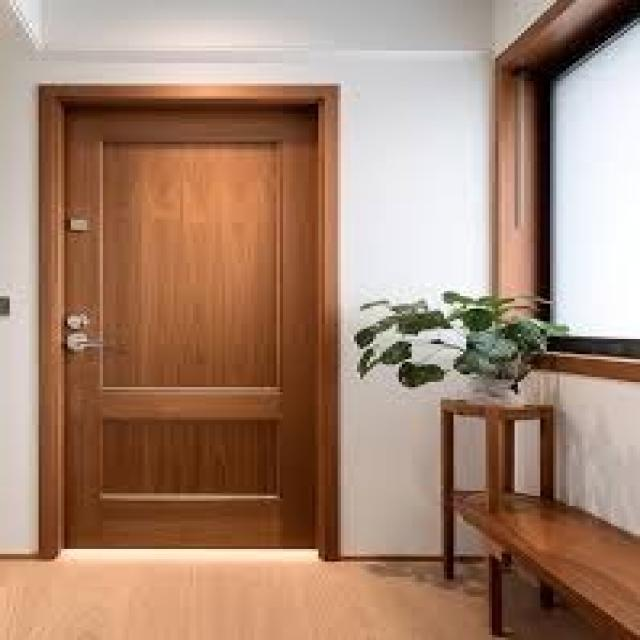door: (58, 95, 325, 550)
